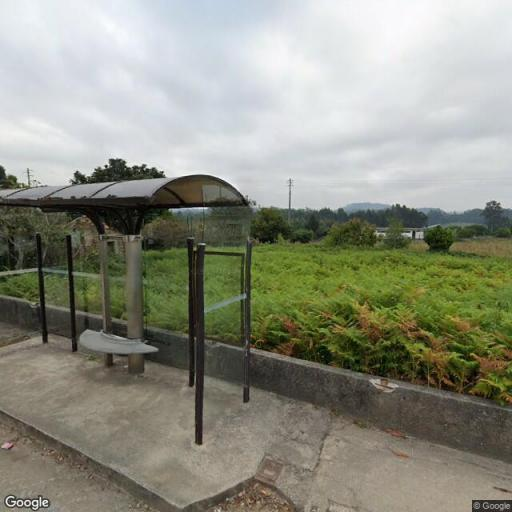mono_10: (286, 176, 294, 218)
